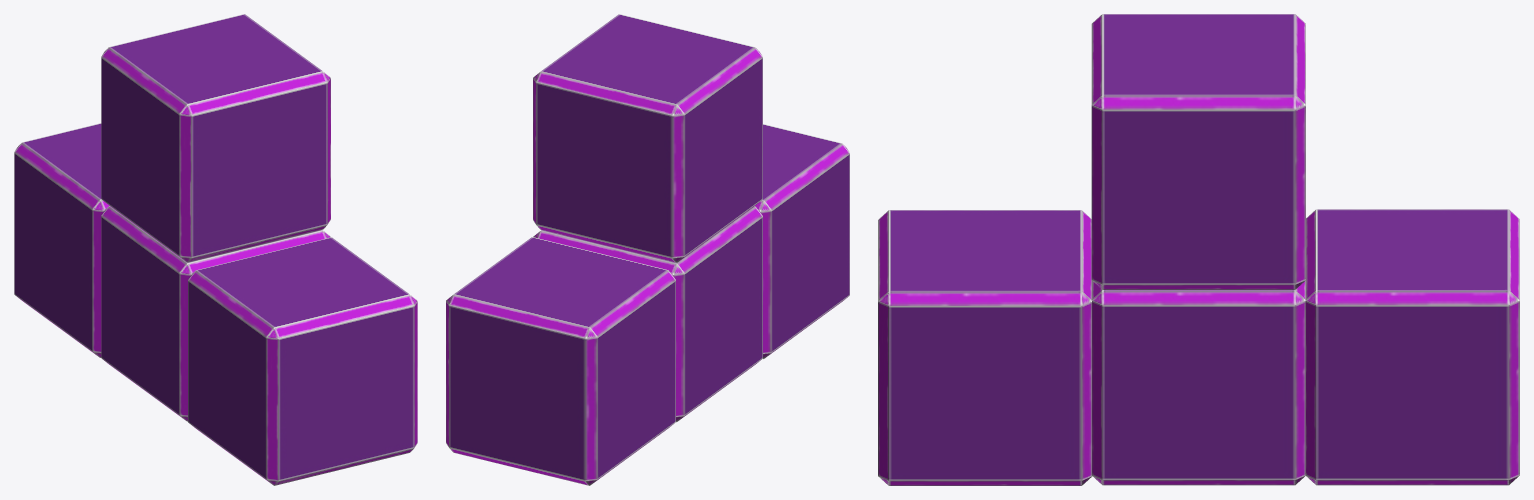
The model's file is Purple Block.fbx.
3 views of the same model, side by side, from view 1: azimuth 30°, elevation 25°; view 2: azimuth 150°, elevation 25°; view 3: azimuth 270°, elevation 25° (orthographic). The views are drawn at different scales.
Parts seen in each view (by area): view 1: pCube42; view 2: pCube42; view 3: pCube42.
Boxes of the visible parts, x1,y1,x2,y2 form: pCube42: [14, 14, 417, 485]; pCube42: [446, 14, 849, 485]; pCube42: [878, 14, 1519, 485].
Size of the model in its own units: 1 by 2.01 by 2.99.
